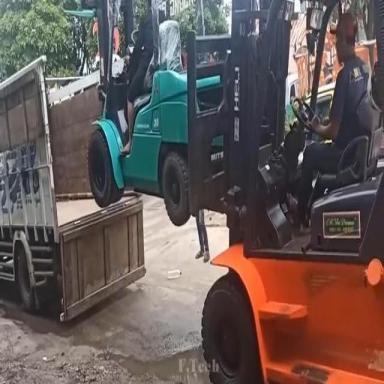forklift: (186, 0, 384, 384), (62, 2, 233, 227)
